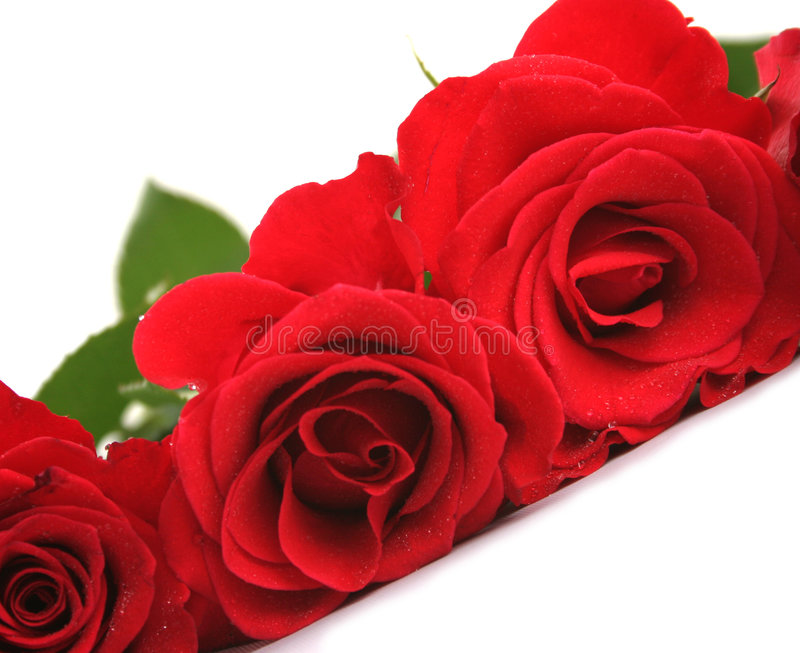RedRose: (129, 235, 558, 613), (415, 0, 792, 407)
